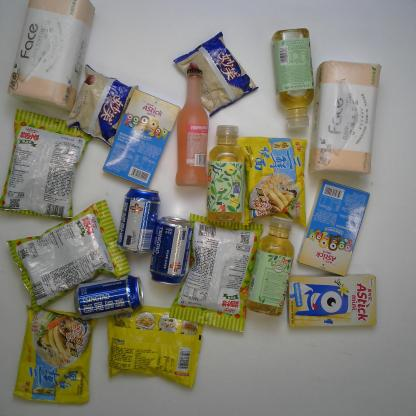Alcohol: (174, 67, 210, 187), (73, 273, 145, 321), (148, 216, 194, 286), (116, 186, 162, 256)
Dessert: (101, 85, 181, 190), (172, 30, 260, 117), (295, 179, 371, 277), (64, 62, 139, 148), (286, 271, 377, 328)
Drink: (245, 214, 296, 317), (270, 27, 316, 131), (205, 123, 246, 224)
Instant Noodles: (12, 303, 98, 405), (105, 304, 205, 389), (236, 134, 310, 230)
Puffed Food: (6, 199, 132, 313), (168, 212, 265, 333), (0, 107, 94, 222)
Tissue: (5, 0, 96, 113), (307, 59, 382, 176)
